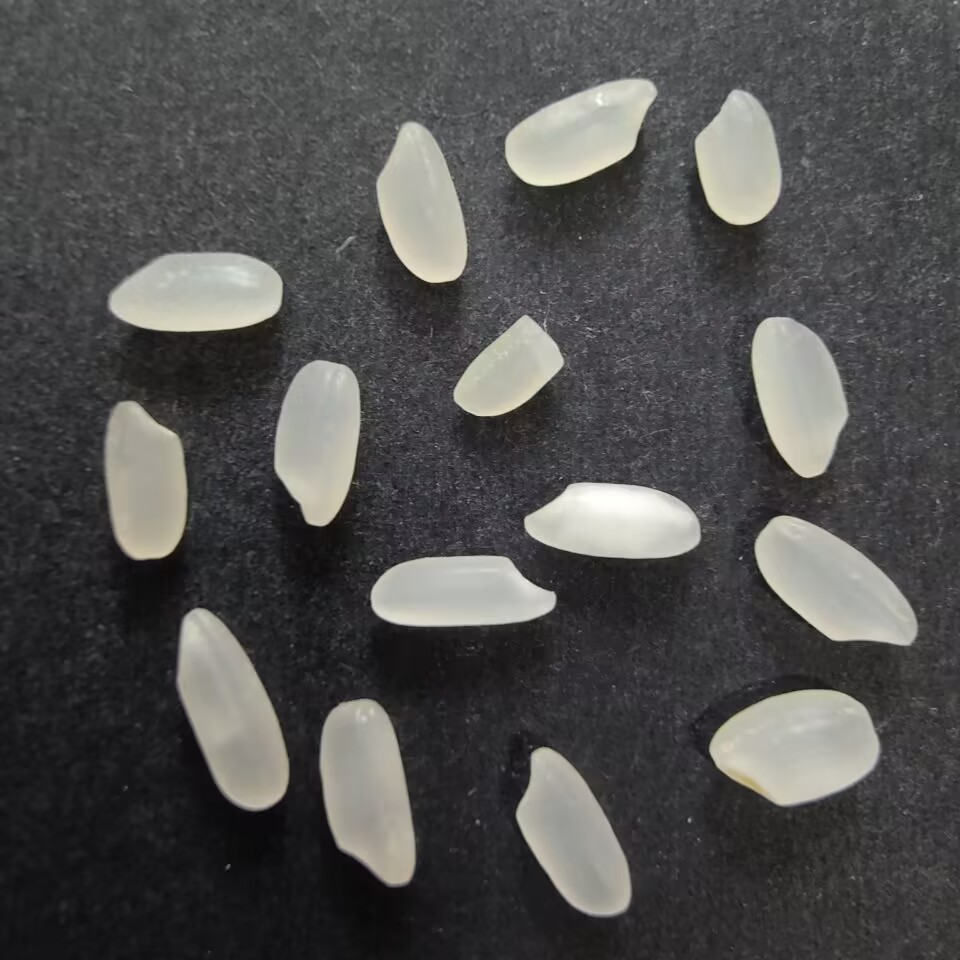broken: (450, 313, 566, 422)
rice: (171, 609, 295, 813), (753, 513, 922, 650), (513, 740, 637, 919), (706, 686, 889, 807), (314, 698, 416, 888), (501, 76, 660, 191), (749, 313, 854, 481), (268, 356, 363, 534), (102, 248, 293, 336), (370, 119, 470, 287), (519, 474, 703, 562), (99, 396, 193, 564), (368, 552, 558, 628), (691, 85, 783, 231)
